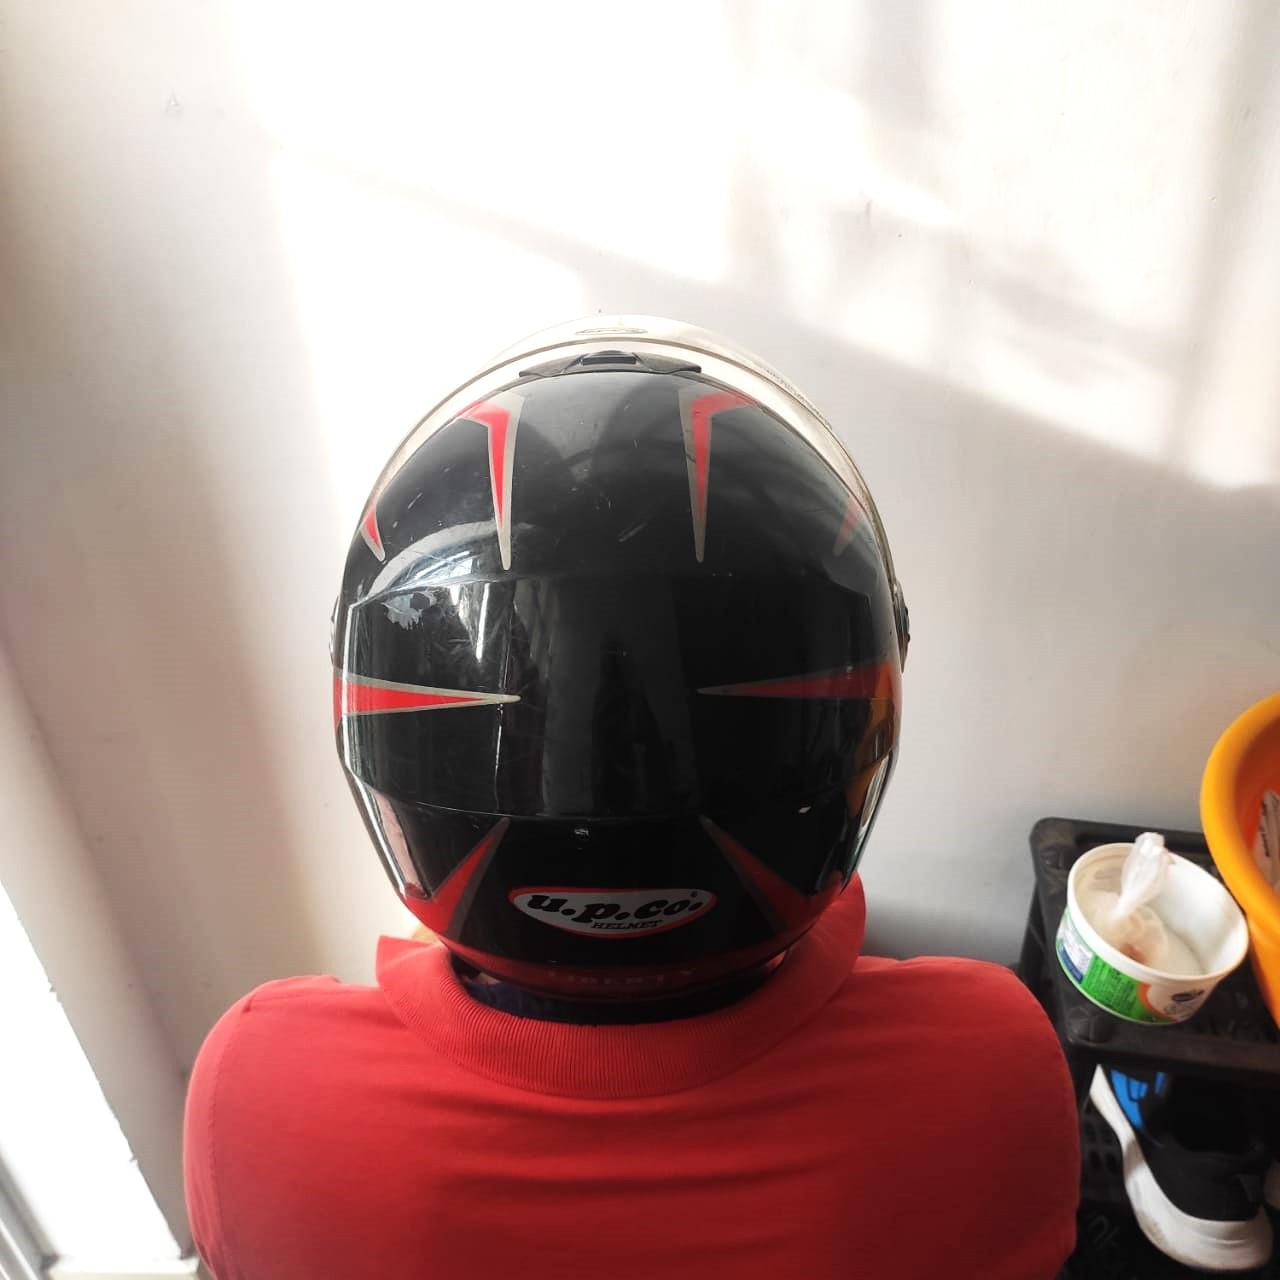helmet: (331, 312, 908, 990)
